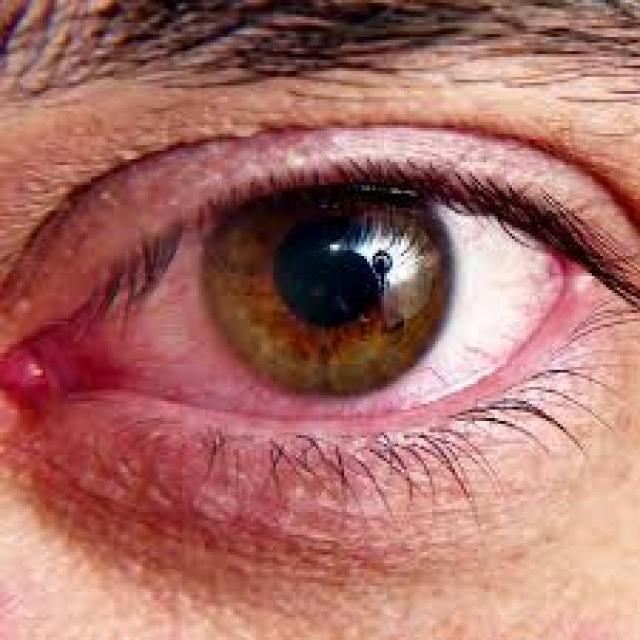Rosacea: (16, 159, 592, 539)
